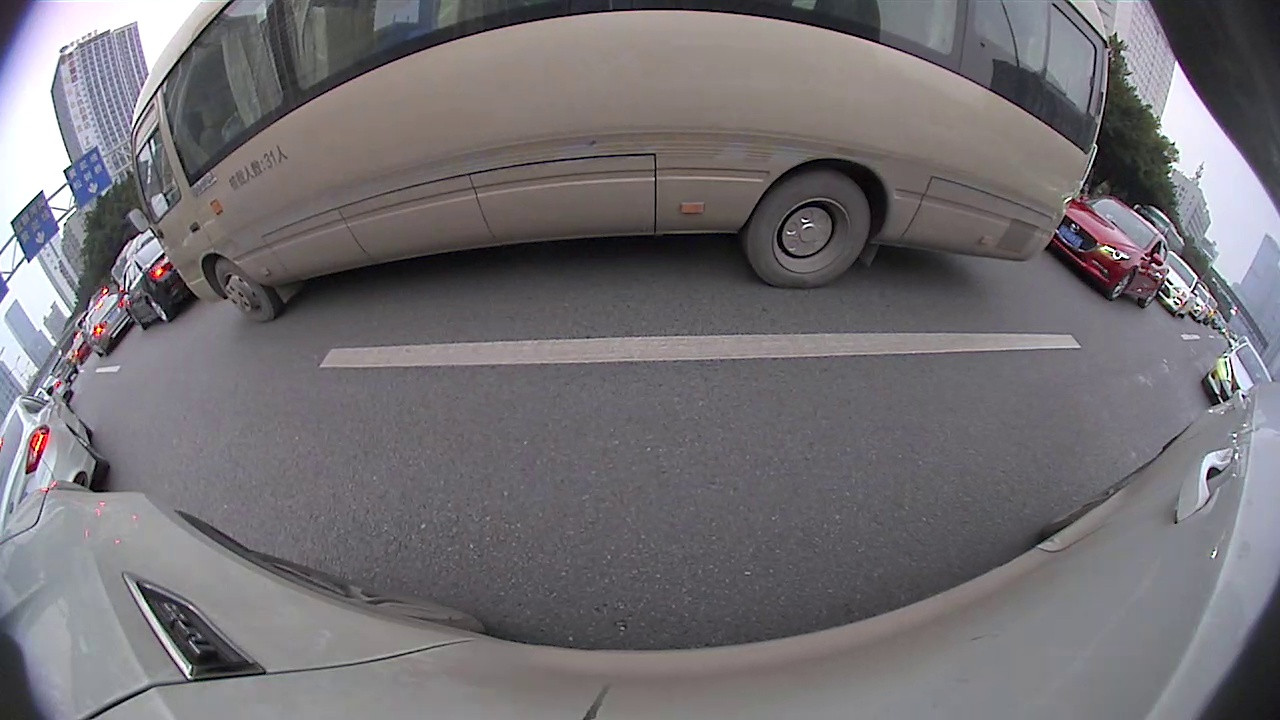bus: (134, 1, 1111, 325)
car: (3, 397, 109, 521), (1055, 200, 1166, 307), (120, 229, 182, 330), (1202, 344, 1271, 409), (82, 294, 130, 358), (1149, 250, 1195, 313)
front: (212, 260, 277, 322), (1108, 269, 1135, 297), (127, 306, 146, 329)
rear: (747, 178, 872, 290), (147, 297, 167, 321), (1139, 287, 1161, 306)
